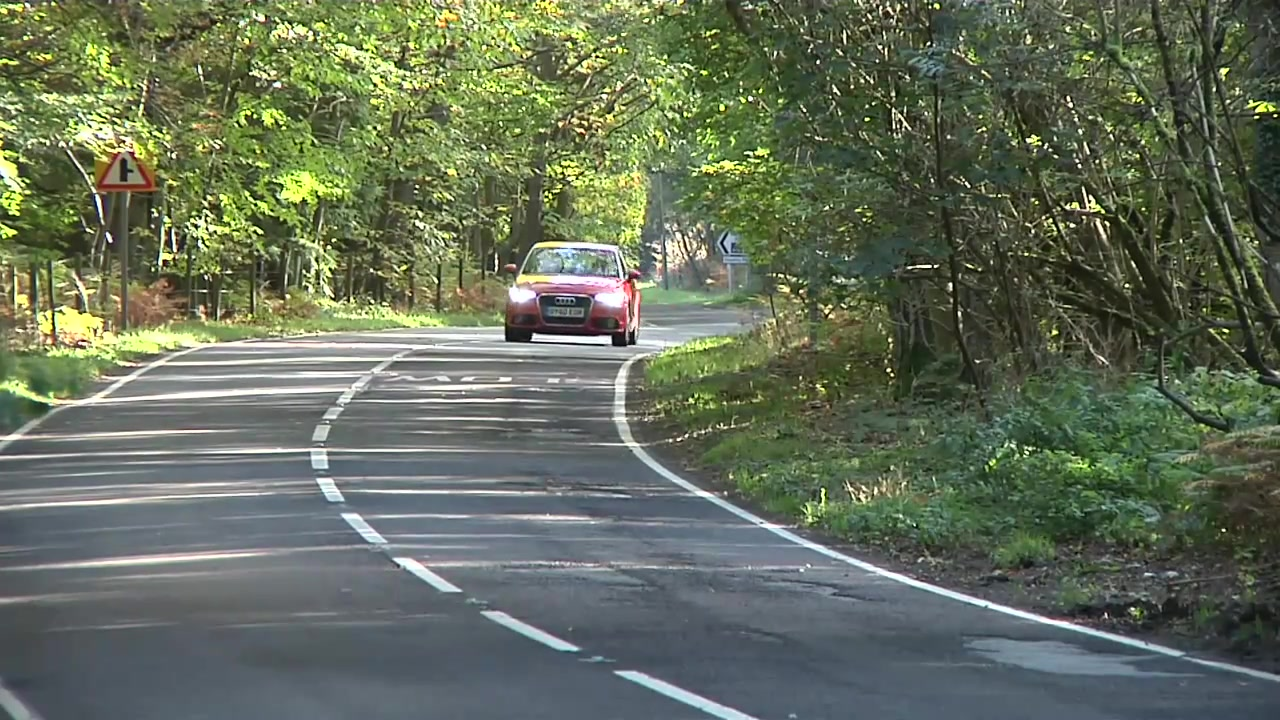car: (501, 236, 646, 344)
